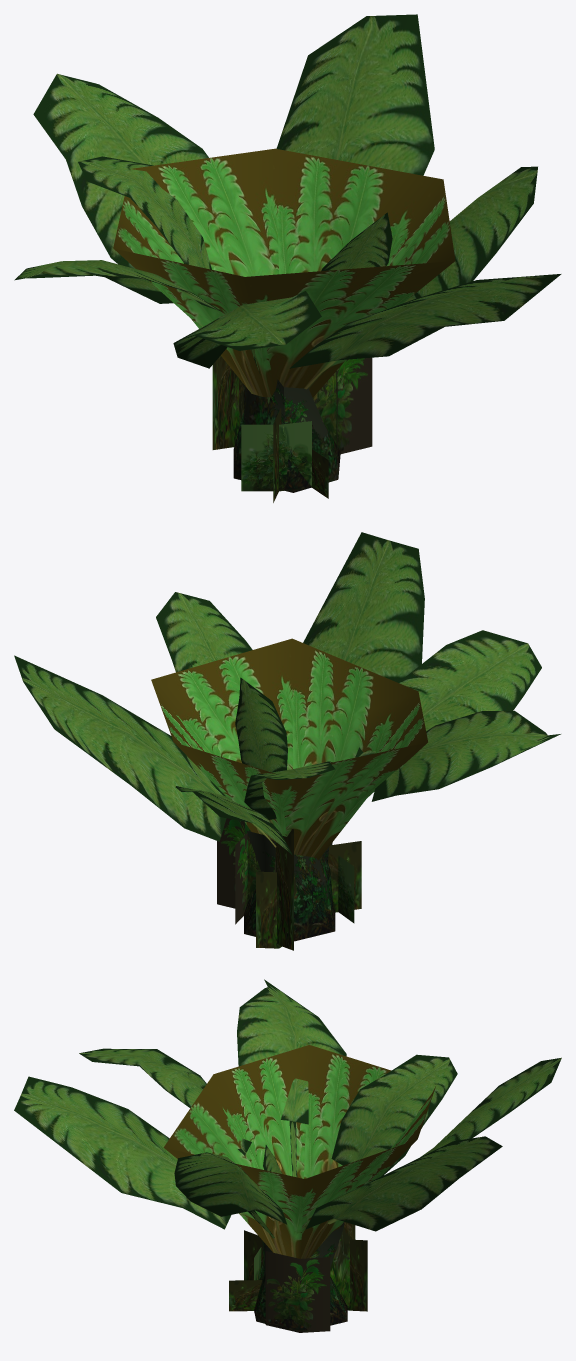
Rendered from fern_tree_d.fbx.
3 renders of one model, top to bottom at view 1: azimuth 30°, elevation 25°; view 2: azimuth 150°, elevation 25°; view 3: azimuth 270°, elevation 25°, orthographic. The views are drawn at different scales.
Visible parts, largest first — view 1: leaf_cone, fern_leaf07, fern_leaf03, fern_leaf08, fern_leaf04, fern_leaf01, fern_leaf02, vine_cylinder, vine_plane01, vine_plane04, fern_leaf06, vine_plane06 (+2 smaller); view 2: leaf_cone, fern_leaf07, fern_leaf08, fern_leaf01, fern_leaf06, fern_leaf04, vine_cylinder, fern_leaf05, vine_plane01, vine_plane06, vine_plane07, fern_leaf03 (+4 smaller); view 3: leaf_cone, fern_leaf08, fern_leaf02, fern_leaf07, fern_leaf06, fern_leaf04, vine_plane02, fern_leaf03, fern_leaf01, vine_cylinder, vine_plane07, vine_plane06 (+2 smaller).
Part boxes in pixels (left/top/right/bottom): leaf_cone: left=113, top=148, right=455, bottom=397; fern_leaf07: left=276, top=14, right=434, bottom=175; fern_leaf03: left=33, top=73, right=208, bottom=268; fern_leaf08: left=289, top=274, right=561, bottom=389; fern_leaf04: left=404, top=166, right=537, bottom=302; fern_leaf01: left=173, top=291, right=321, bottom=374; fern_leaf02: left=78, top=156, right=211, bottom=269; vine_cylinder: left=233, top=379, right=340, bottom=492; vine_plane01: left=313, top=357, right=372, bottom=453; vine_plane04: left=241, top=421, right=311, bottom=491; fern_leaf06: left=14, top=260, right=221, bottom=311; vine_plane06: left=212, top=355, right=238, bottom=449; leaf_cone: left=151, top=638, right=427, bottom=859; fern_leaf07: left=14, top=655, right=226, bottom=841; fern_leaf08: left=303, top=532, right=424, bottom=682; fern_leaf01: left=355, top=630, right=541, bottom=757; fern_leaf06: left=371, top=710, right=560, bottom=801; fern_leaf04: left=156, top=592, right=252, bottom=675; vine_cylinder: left=244, top=831, right=335, bottom=941; fern_leaf05: left=235, top=677, right=287, bottom=772; vine_plane01: left=217, top=818, right=260, bottom=908; vine_plane06: left=274, top=829, right=293, bottom=950; vine_plane07: left=256, top=871, right=297, bottom=948; fern_leaf03: left=175, top=786, right=292, bottom=854; leaf_cone: left=163, top=1045, right=435, bottom=1258; fern_leaf08: left=14, top=1076, right=239, bottom=1229; fern_leaf02: left=331, top=1054, right=457, bottom=1176; fern_leaf07: left=305, top=1136, right=502, bottom=1231; fern_leaf06: left=237, top=979, right=346, bottom=1177; fern_leaf04: left=174, top=1152, right=286, bottom=1238; vine_plane02: left=265, top=1251, right=330, bottom=1332; fern_leaf03: left=420, top=1057, right=561, bottom=1157; fern_leaf01: left=79, top=1048, right=251, bottom=1155; vine_cylinder: left=254, top=1222, right=347, bottom=1332; vine_plane07: left=347, top=1239, right=367, bottom=1311; vine_plane06: left=330, top=1222, right=355, bottom=1306.
Bounding box in the file's own units: 3216 × 1951 × 3665.
Materials: 2 (2 with a texture image).
